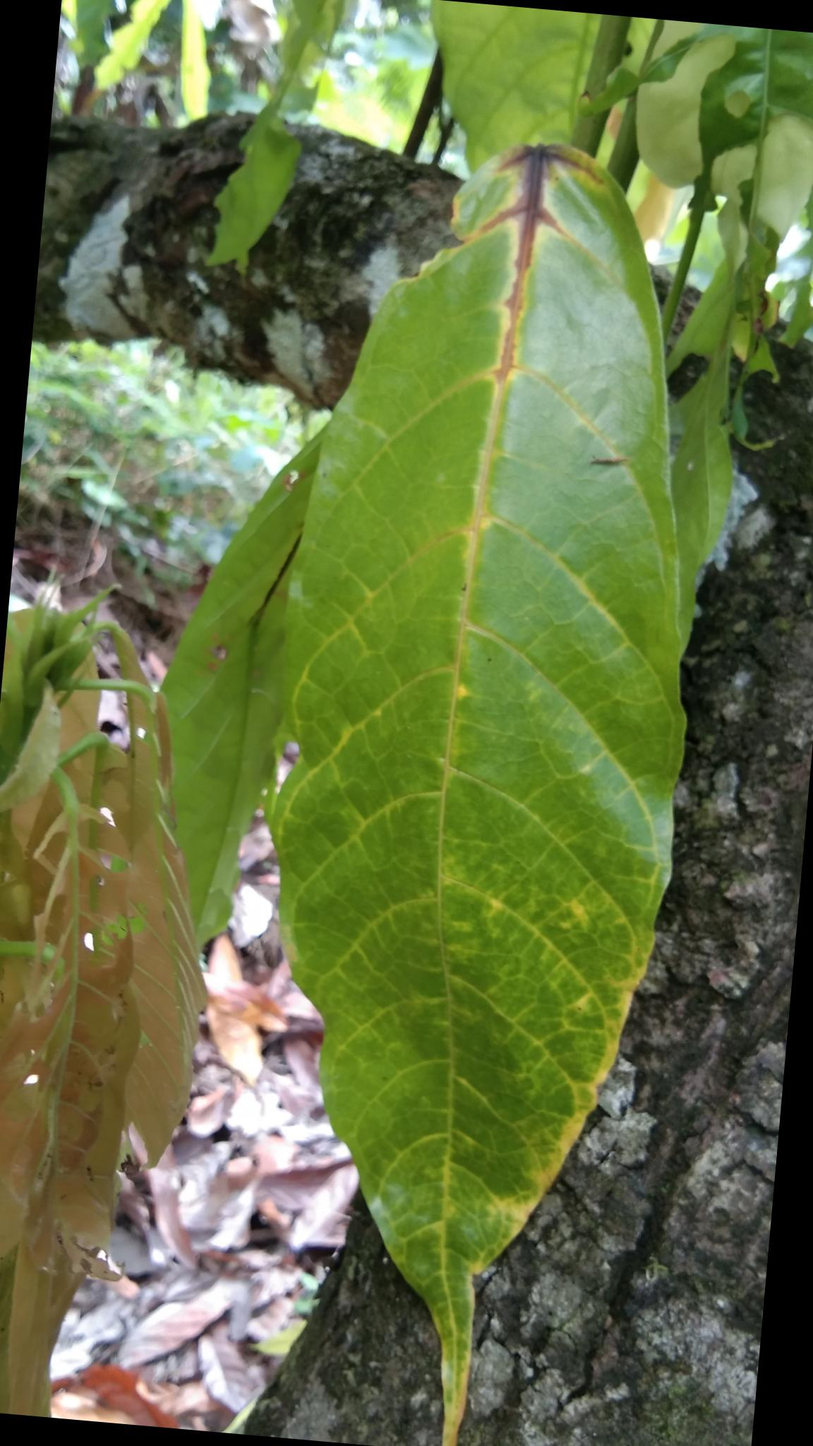Potasio: (266, 137, 680, 1437)
